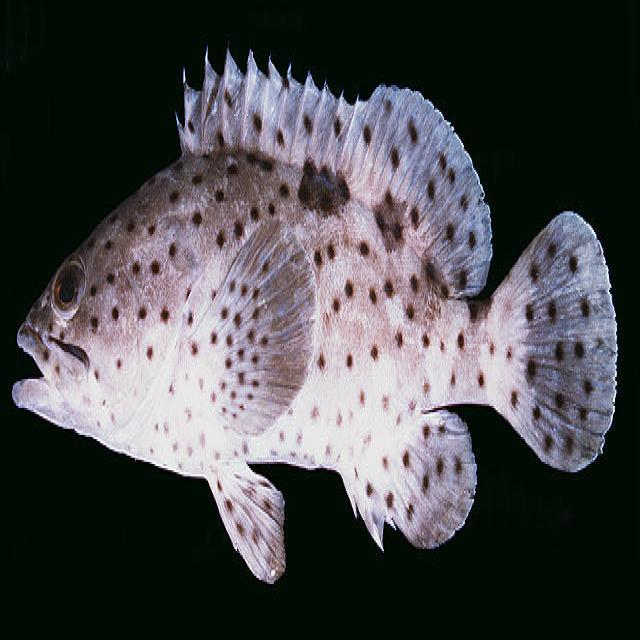ikan: (8, 30, 628, 608)
